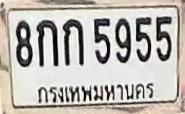5: (134, 16, 152, 62), (155, 16, 172, 62), (93, 18, 110, 63)
8: (15, 20, 32, 67)
9: (114, 17, 131, 63)
A01: (62, 18, 85, 66), (36, 19, 58, 66)
BKK: (35, 79, 155, 107)
